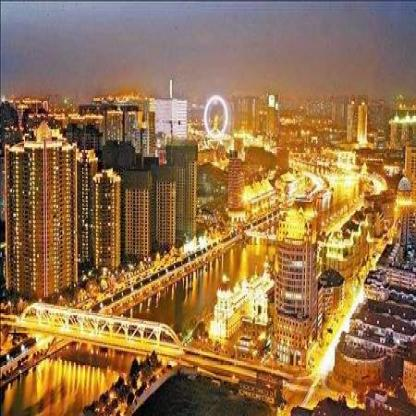other: (245, 139, 384, 300), (14, 291, 190, 384), (320, 305, 331, 377)
